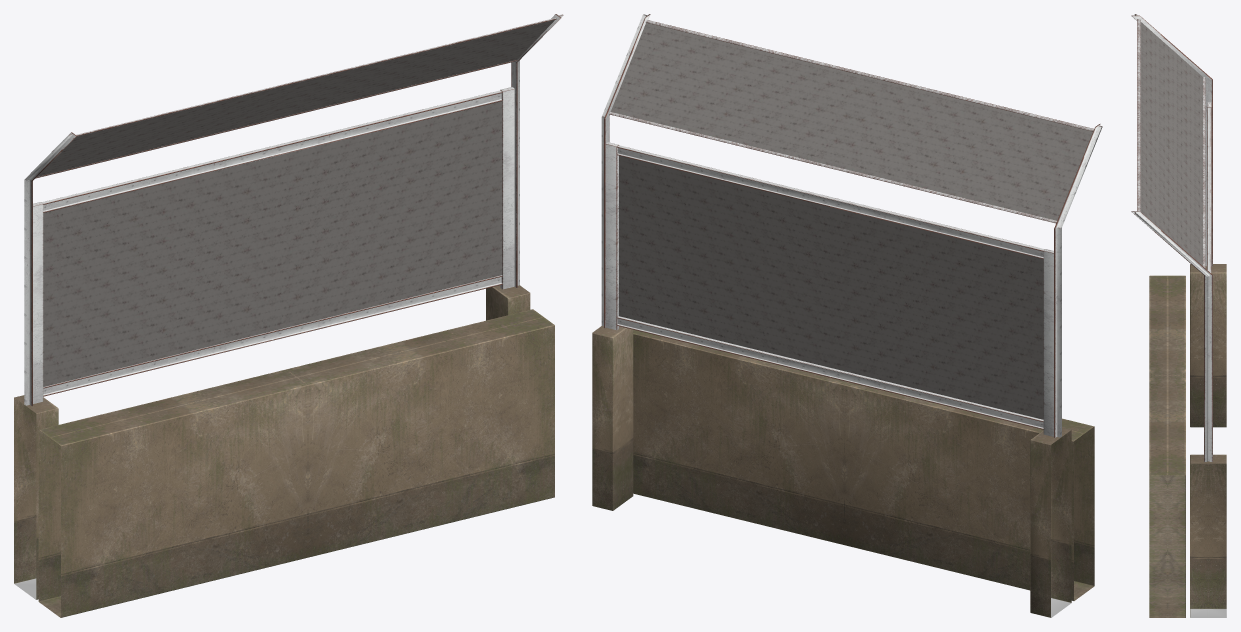
File: race-fence.obj
The picture shows the model from 3 angles, left to right: view 1: azimuth 30°, elevation 25°; view 2: azimuth 150°, elevation 25°; view 3: azimuth 270°, elevation 25°; orthographic projection. The views are drawn at different scales.
Visible parts, largest first — view 1: Cube.000; view 2: Cube.000; view 3: Cube.000.
Boxes of the visible parts, left/top/right/bottom form: Cube.000: left=14, top=14, right=563, bottom=617; Cube.000: left=592, top=14, right=1102, bottom=617; Cube.000: left=1131, top=14, right=1226, bottom=617.
Size of the model in its own units: 4.3 by 4.07 by 0.8713.
1 material, 1 textured.
